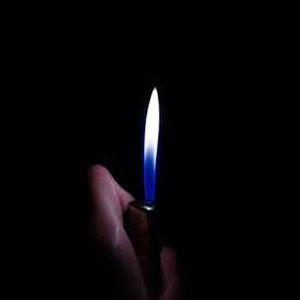fire: (145, 83, 162, 201)
